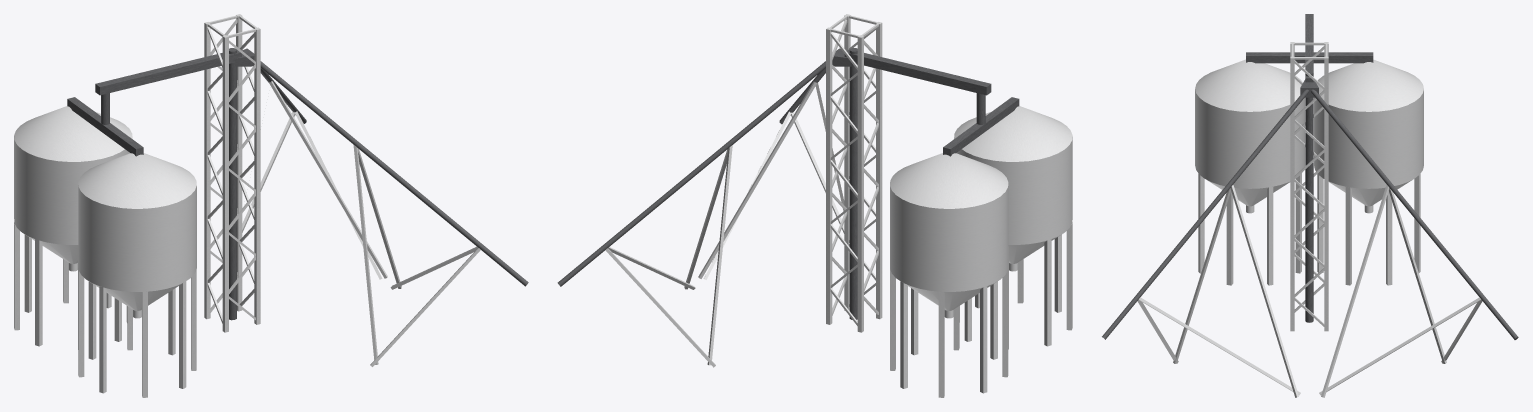
File: grain-silo-hopper-loader-cbj_LOD00.gltf
3 renders of one model, left to right at view 1: azimuth 30°, elevation 25°; view 2: azimuth 150°, elevation 25°; view 3: azimuth 270°, elevation 25°, orthographic. The views are drawn at different scales.
Visible parts, largest first — view 1: grain-silo; view 2: grain-silo; view 3: grain-silo.
Boxes of the visible parts, x1,y1,x2,y2 form: grain-silo: (14,14,528,397); grain-silo: (557,14,1072,397); grain-silo: (1102,14,1518,397).
Size of the model in its own units: 45.83 by 36.71 by 49.13.
